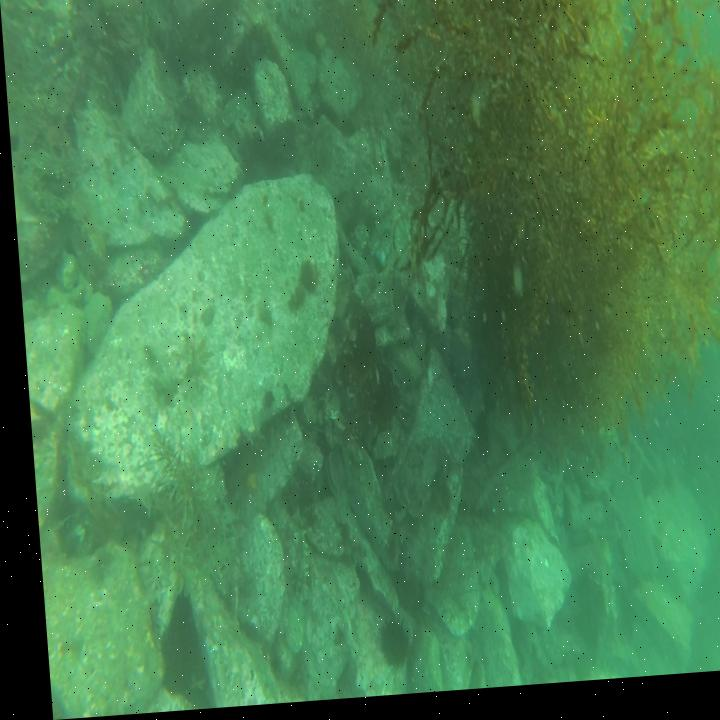echinus: (365, 615, 401, 673)
holothurian: (273, 509, 308, 608)
